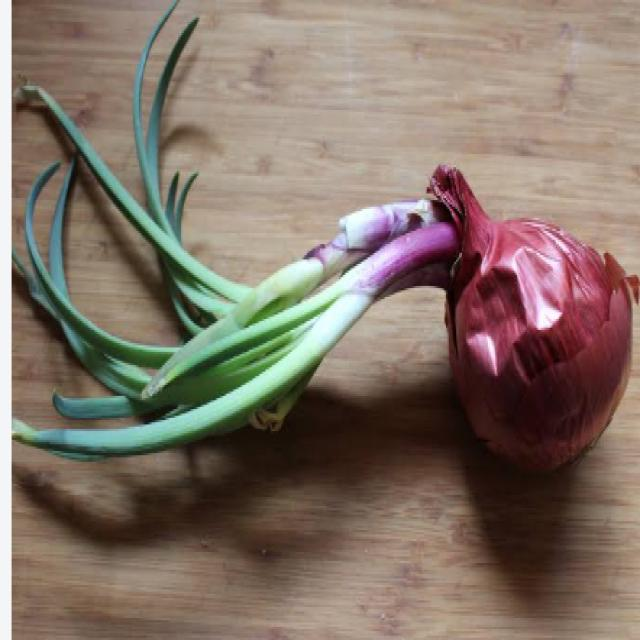sprouting: (14, 51, 637, 460)
